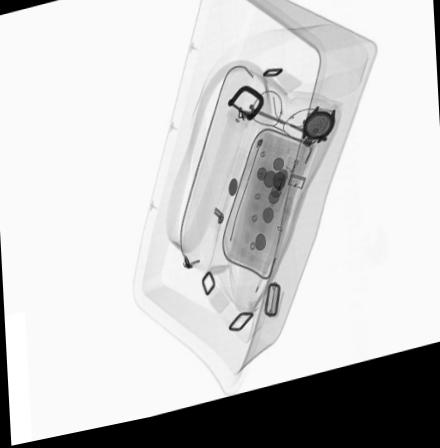Lighter: (268, 168, 300, 226)
